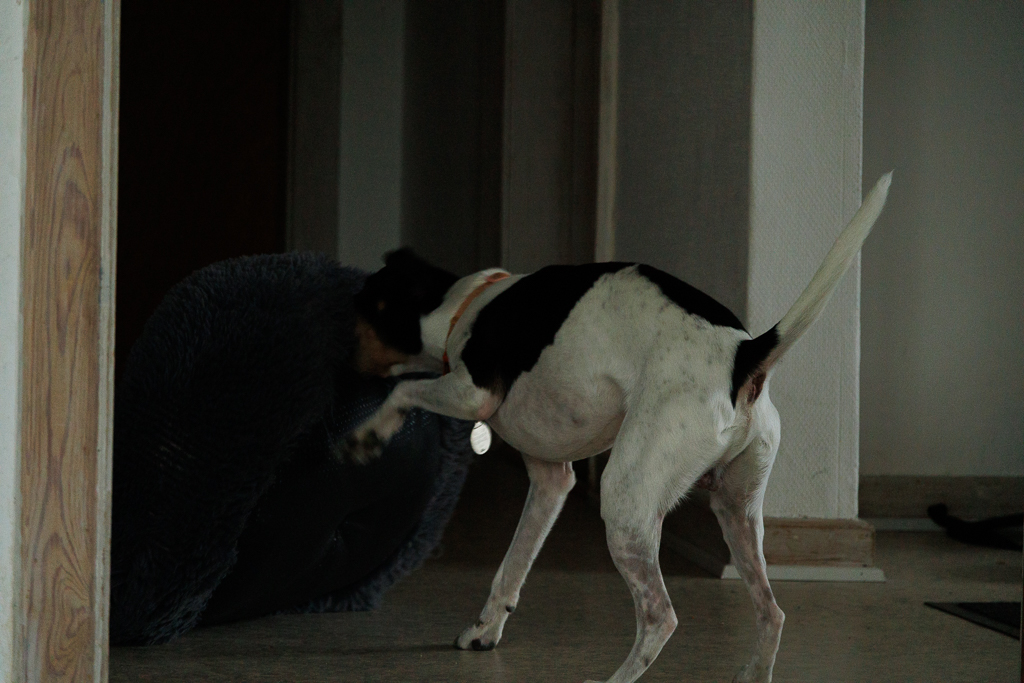Dog: (329, 153, 900, 683)
